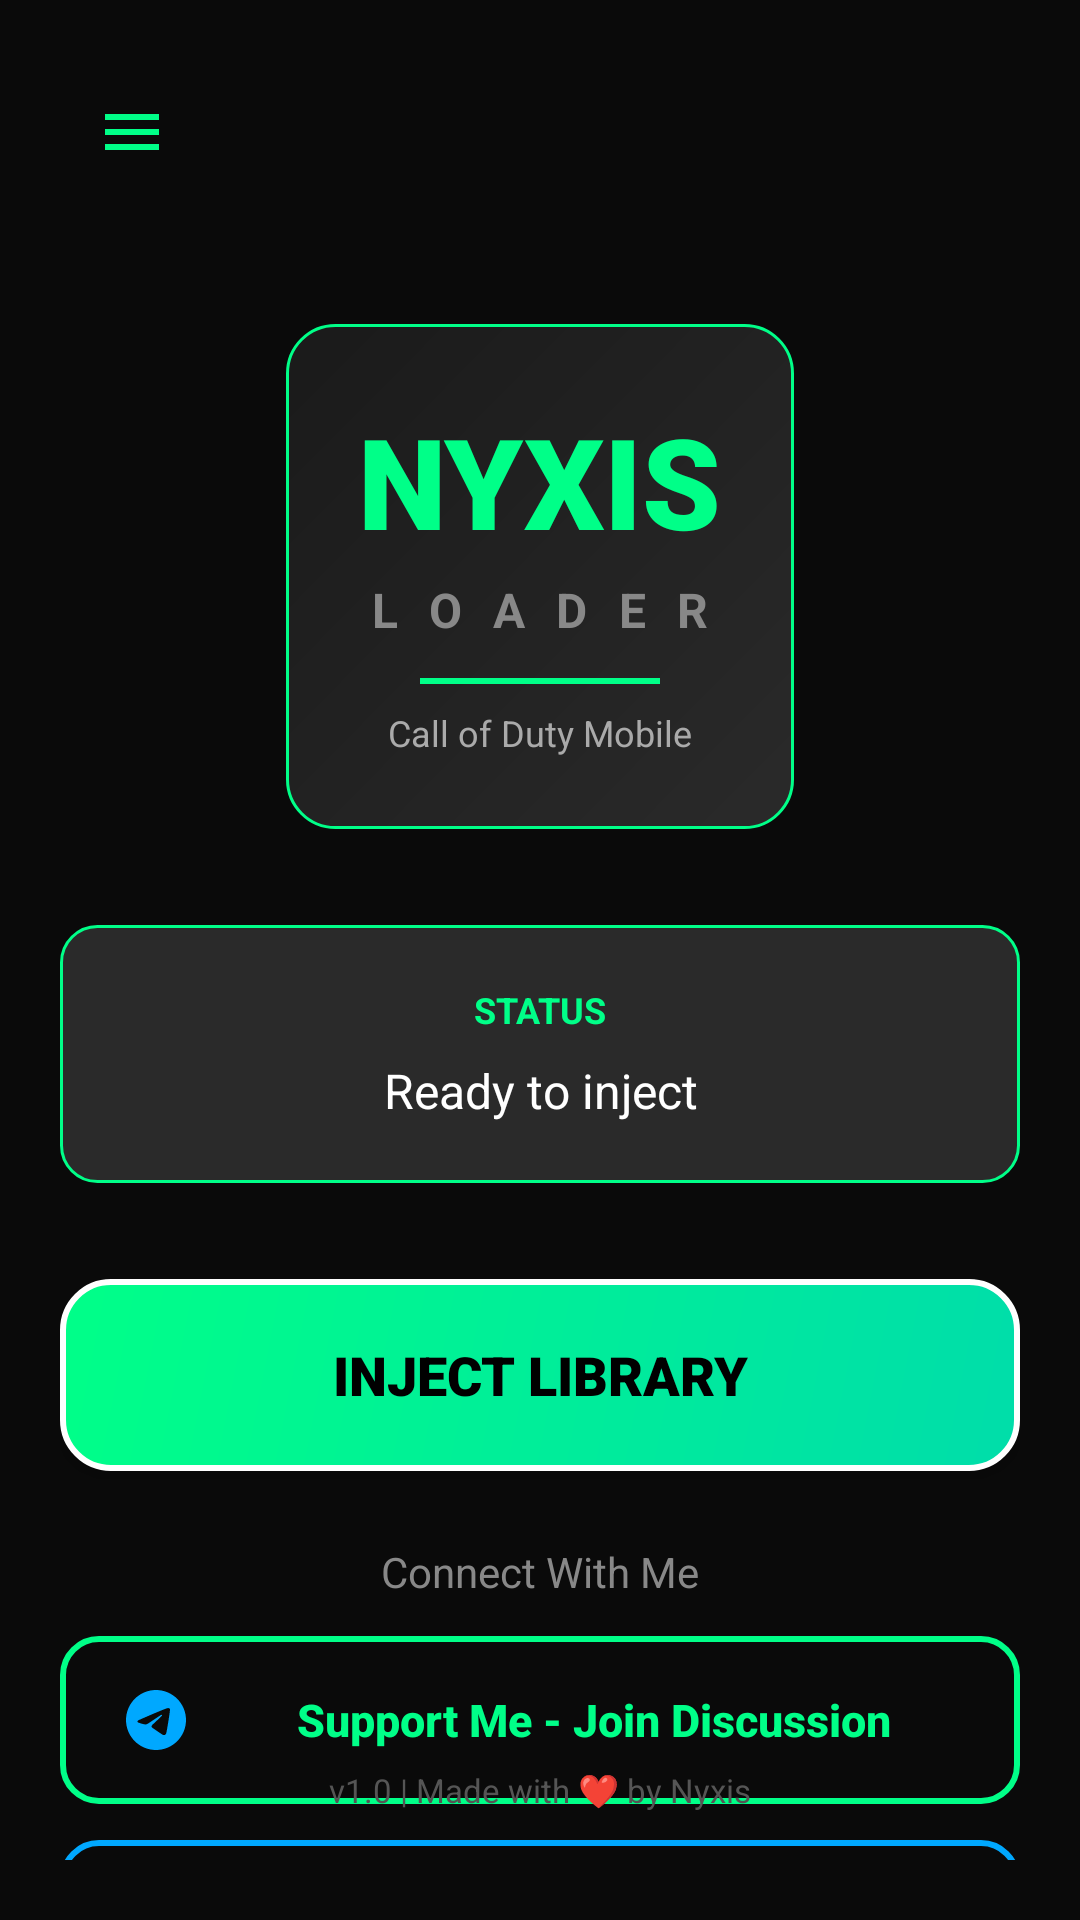

Point at icon controls on the screen. Image size 1080px x 1920px, points as [x,y].
Menu: [132,132]
